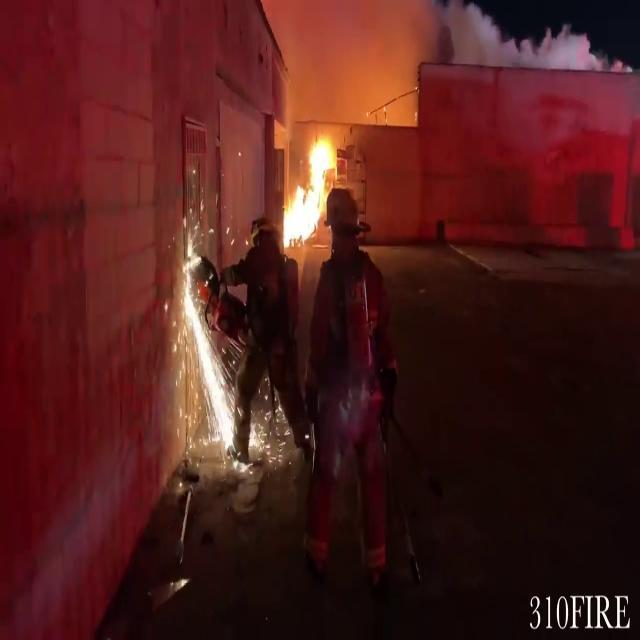Fire: (170, 241, 218, 442), (274, 126, 342, 256)
